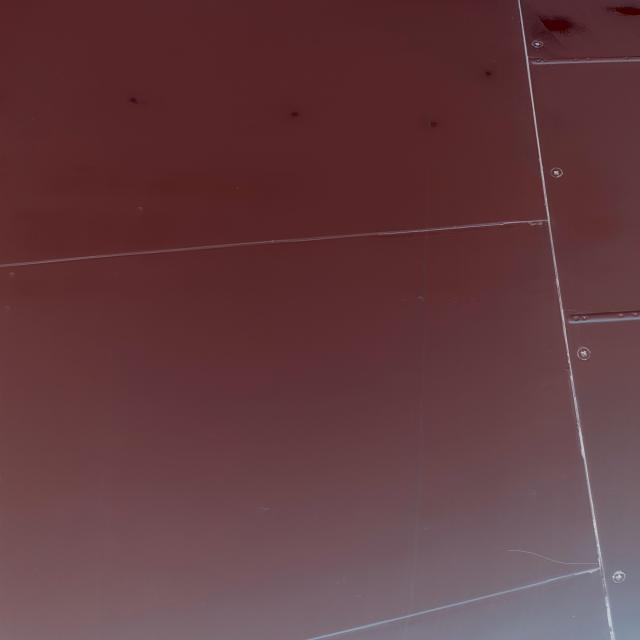Rupture: (505, 541, 601, 572)
